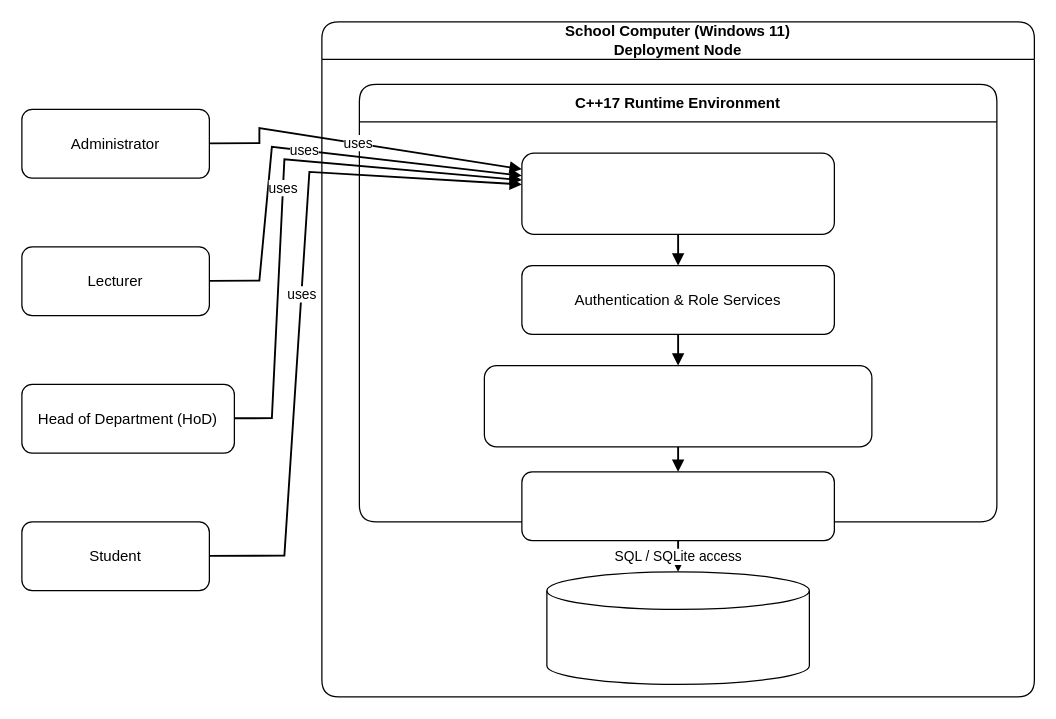
This 1056x719 diagram has some shape labels left out. Each missing label, with the centre of its shape:
"LMS Application Services (Assignment, Submission, Marking, Moderation)" goes at (x=677, y=405).
"Moderated LMS Console Application" goes at (x=677, y=193).
"Repository / Data Access Layer" goes at (x=677, y=506).
"SQLite Database lms.db" goes at (x=677, y=627).
